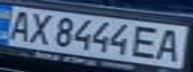4: (109, 21, 136, 56), (90, 19, 115, 54), (69, 17, 93, 52)
8: (51, 15, 78, 48)
A: (151, 27, 190, 63), (3, 8, 36, 43)
E: (130, 22, 166, 60)
X: (24, 10, 57, 46)
